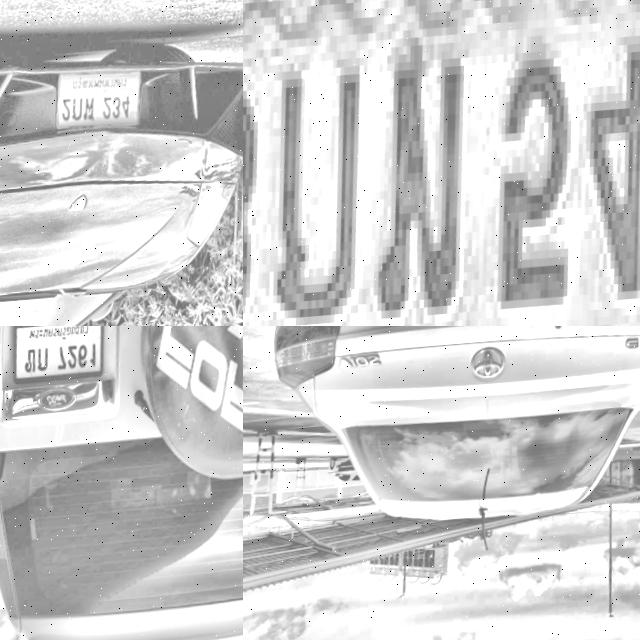license-plate: (243, 0, 640, 326), (53, 59, 154, 137), (16, 326, 117, 383)
